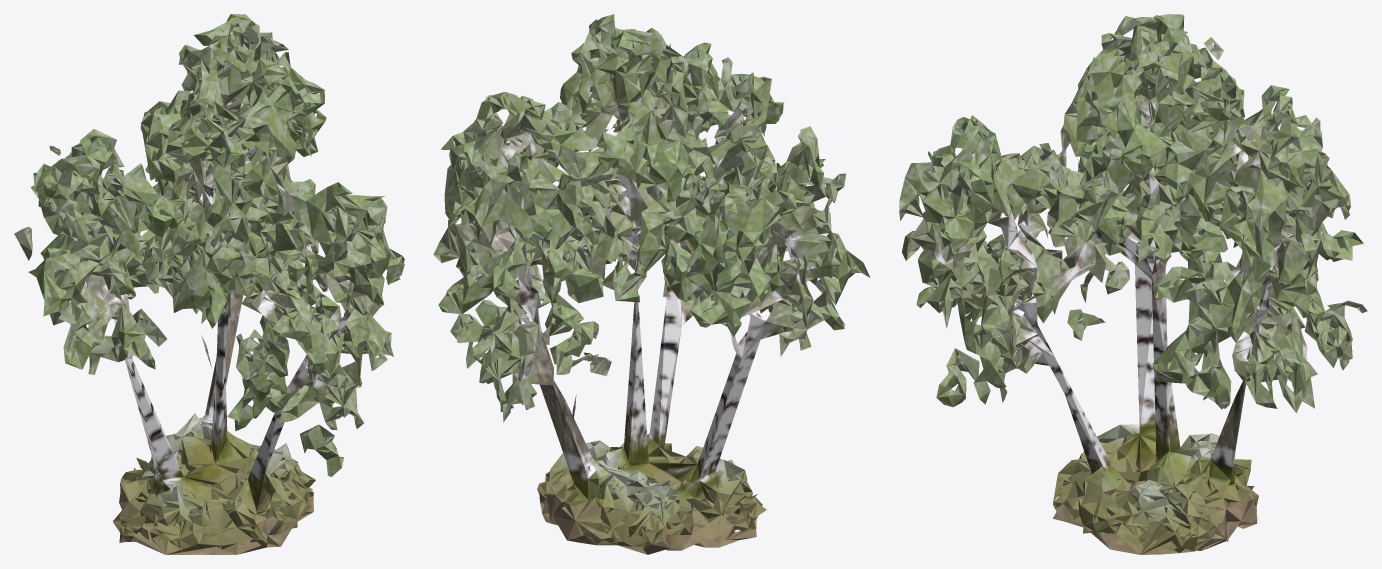
Rendered from k_birches.obj.
3 views of the same model, side by side, from view 1: azimuth 30°, elevation 25°; view 2: azimuth 150°, elevation 25°; view 3: azimuth 270°, elevation 25° (orthographic). The views are drawn at different scales.
Visible parts, largest first — view 1: k_birches; view 2: k_birches; view 3: k_birches.
Part boxes in pixels (bbox=[...]): k_birches: bbox=[14, 14, 404, 554]; k_birches: bbox=[433, 14, 870, 554]; k_birches: bbox=[899, 14, 1367, 554].
Bounding box in the file's own units: 5.34 × 7.02 × 6.
Materials: 1 (1 with a texture image).
